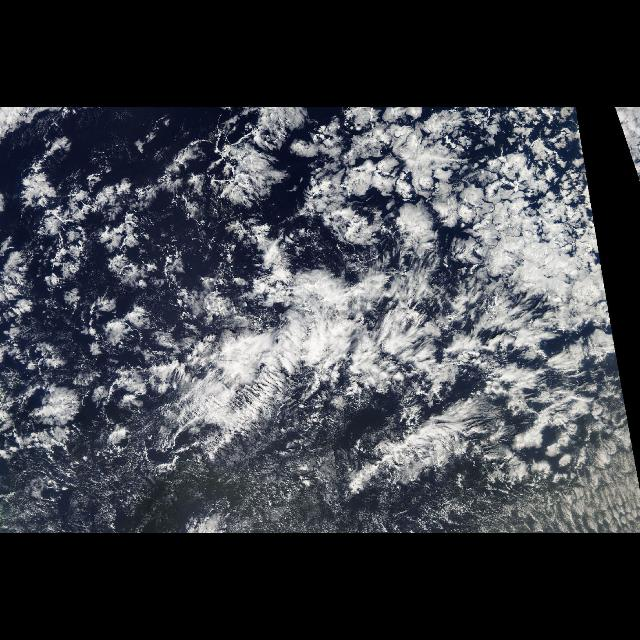Flower: (3, 134, 263, 346), (286, 108, 464, 268)
Sugar: (3, 459, 186, 533), (201, 448, 349, 534)
